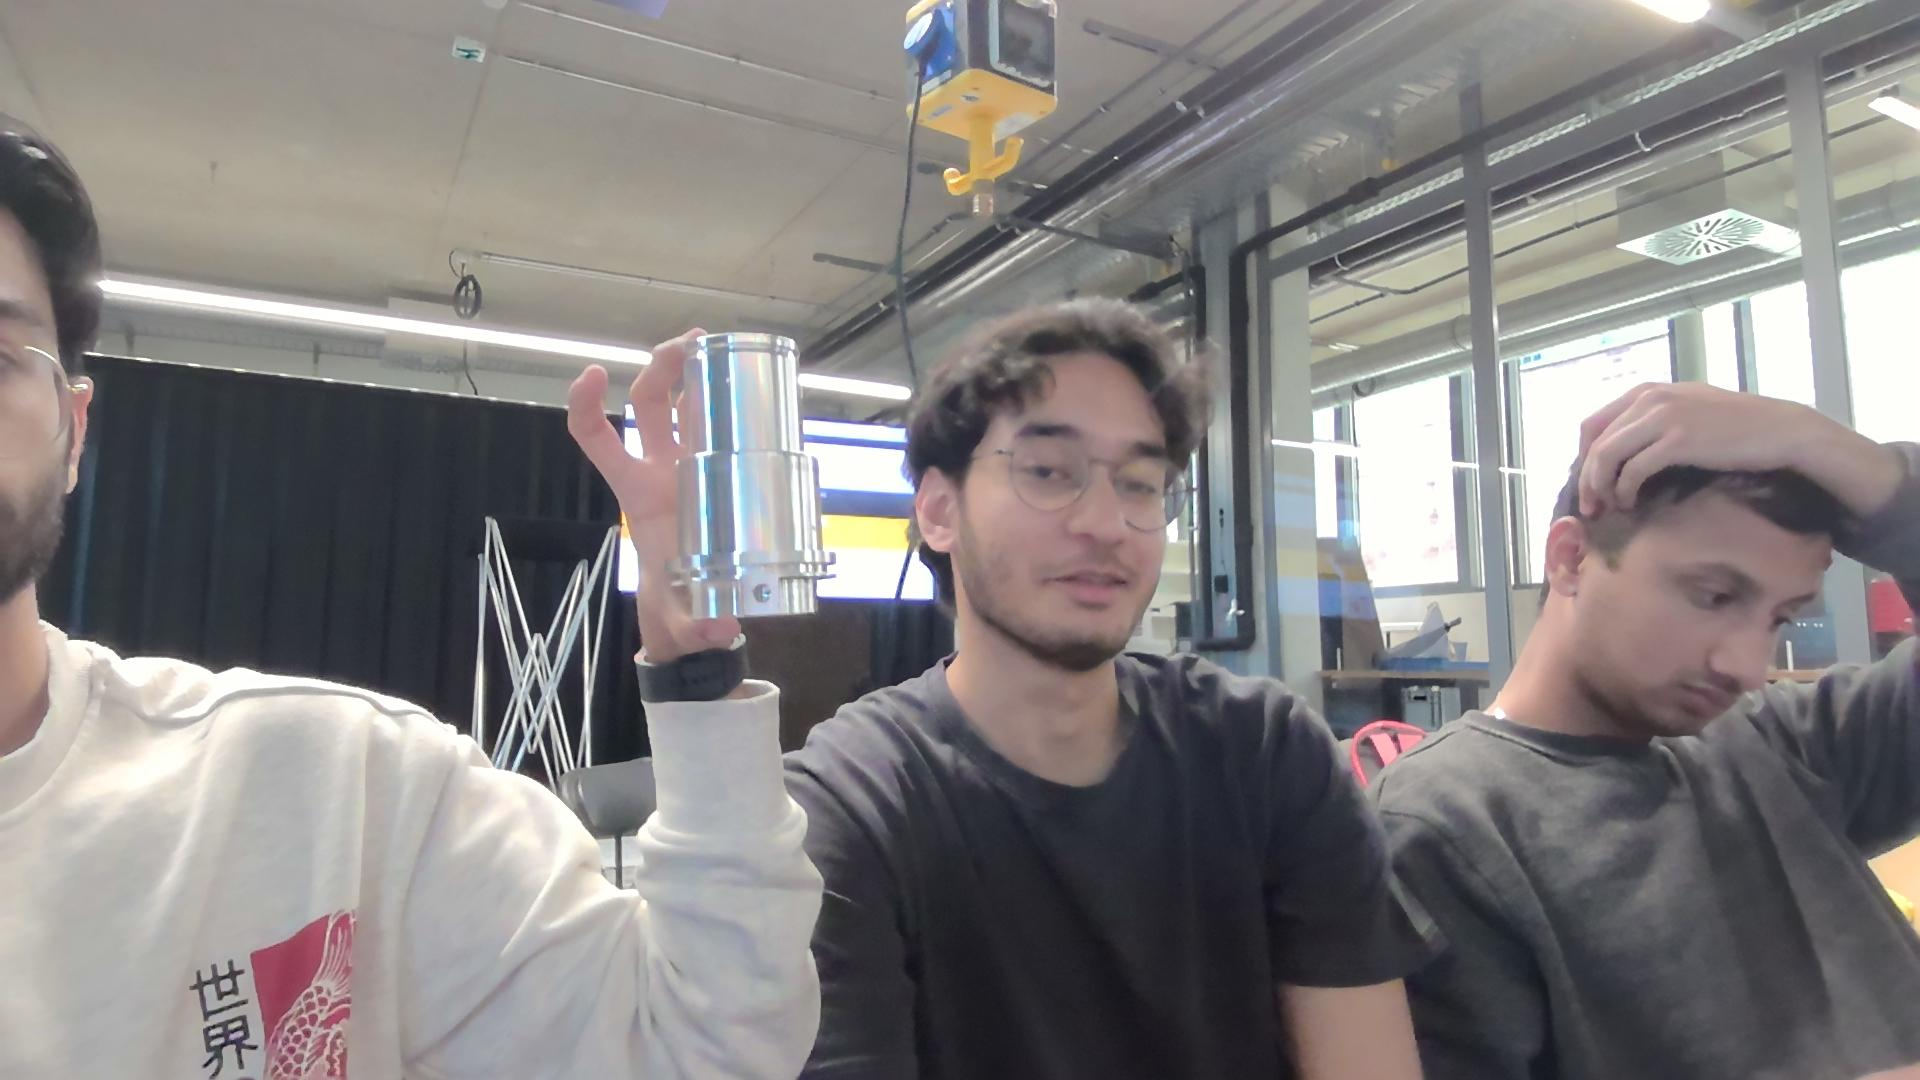objects: (659, 315, 839, 642)
